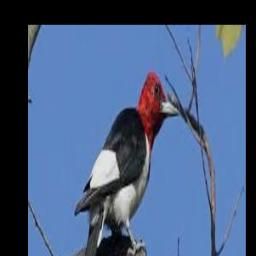Woodpecker: (75, 71, 179, 256)
